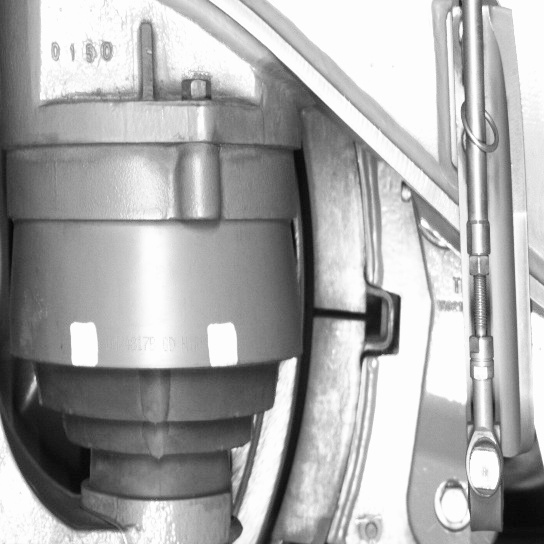KnifeSwitch: (251, 144, 376, 542)
